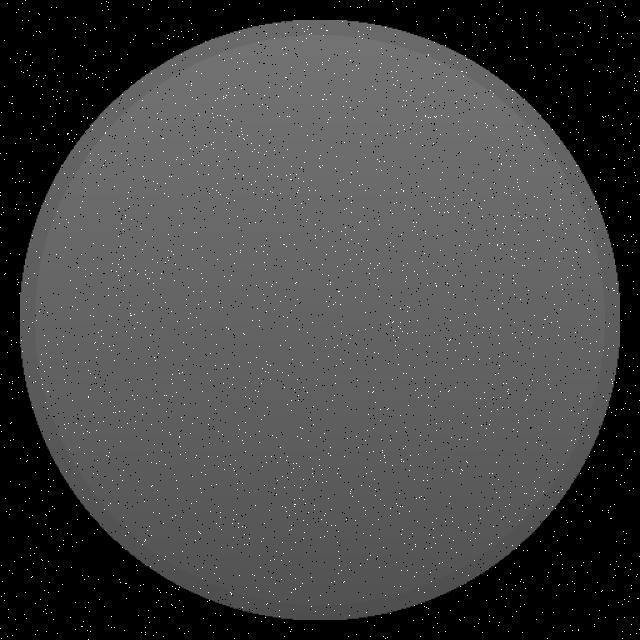Circle: (19, 19, 622, 624)
